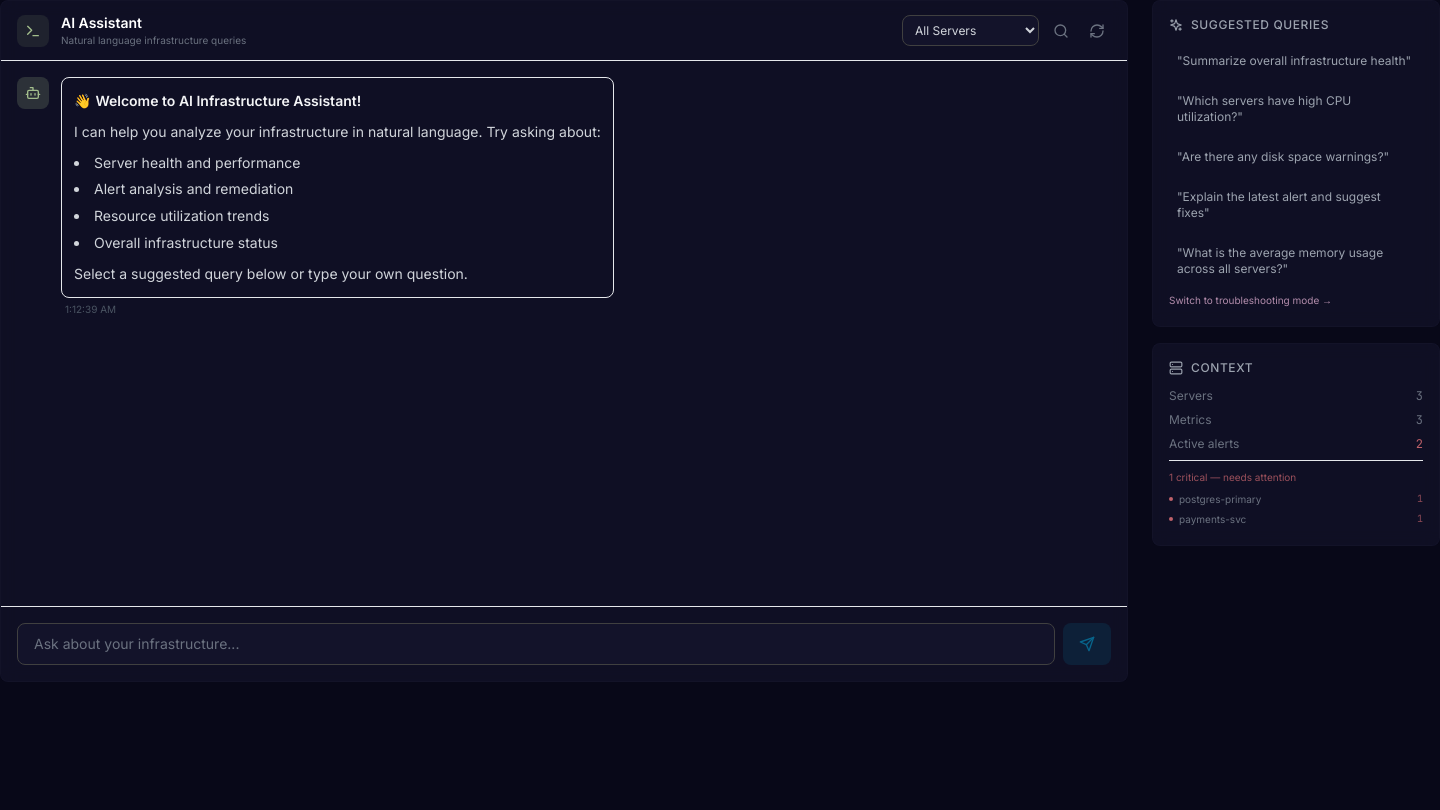
Test: AIChat › shows error message with server summary when API fails
Type "What is wrong?" into the field with placeholder "Ask about your infrastructure...".
click(536, 644); type("What is wrong?")  # box [17,623,1055,665]
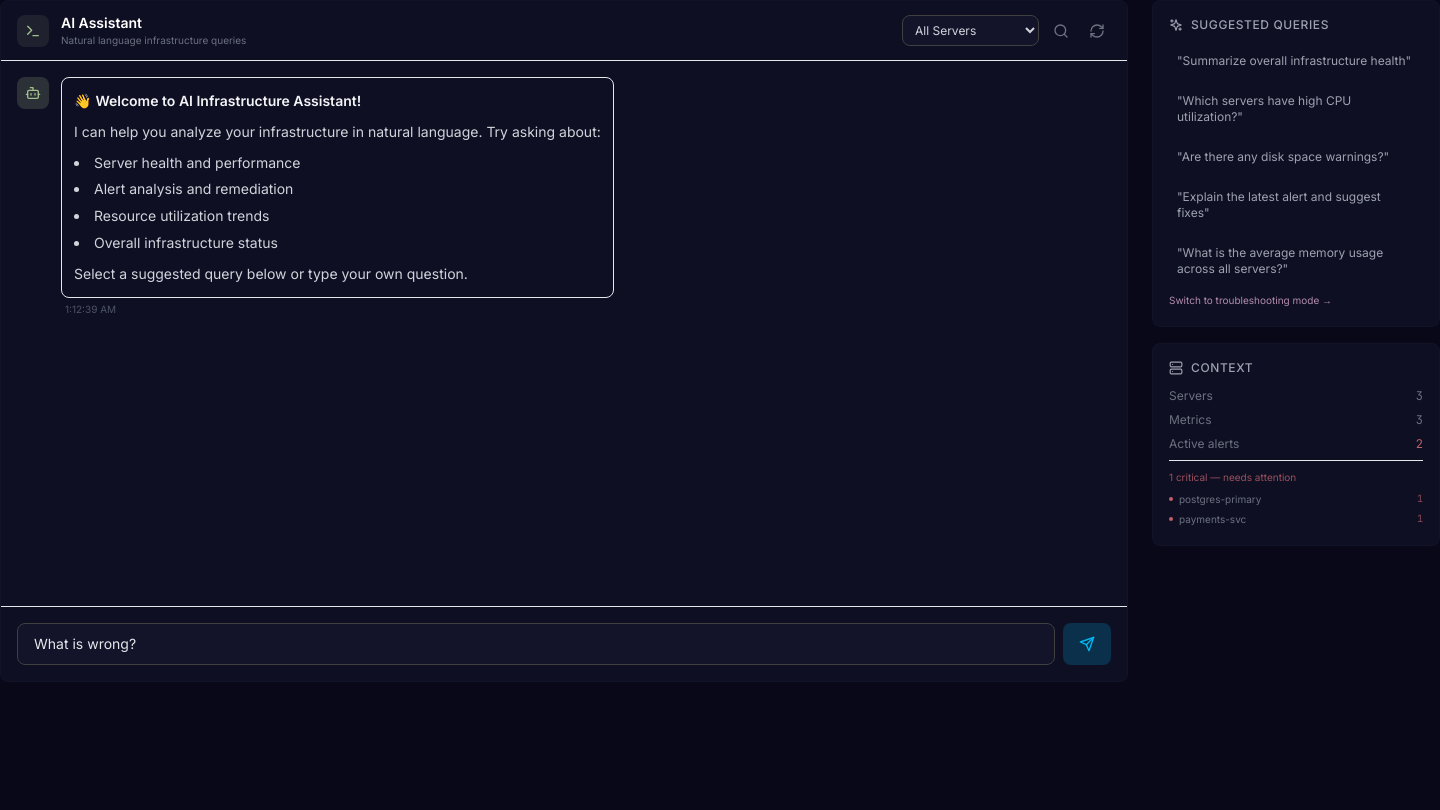
Submit the form, box [17,623,1111,665]
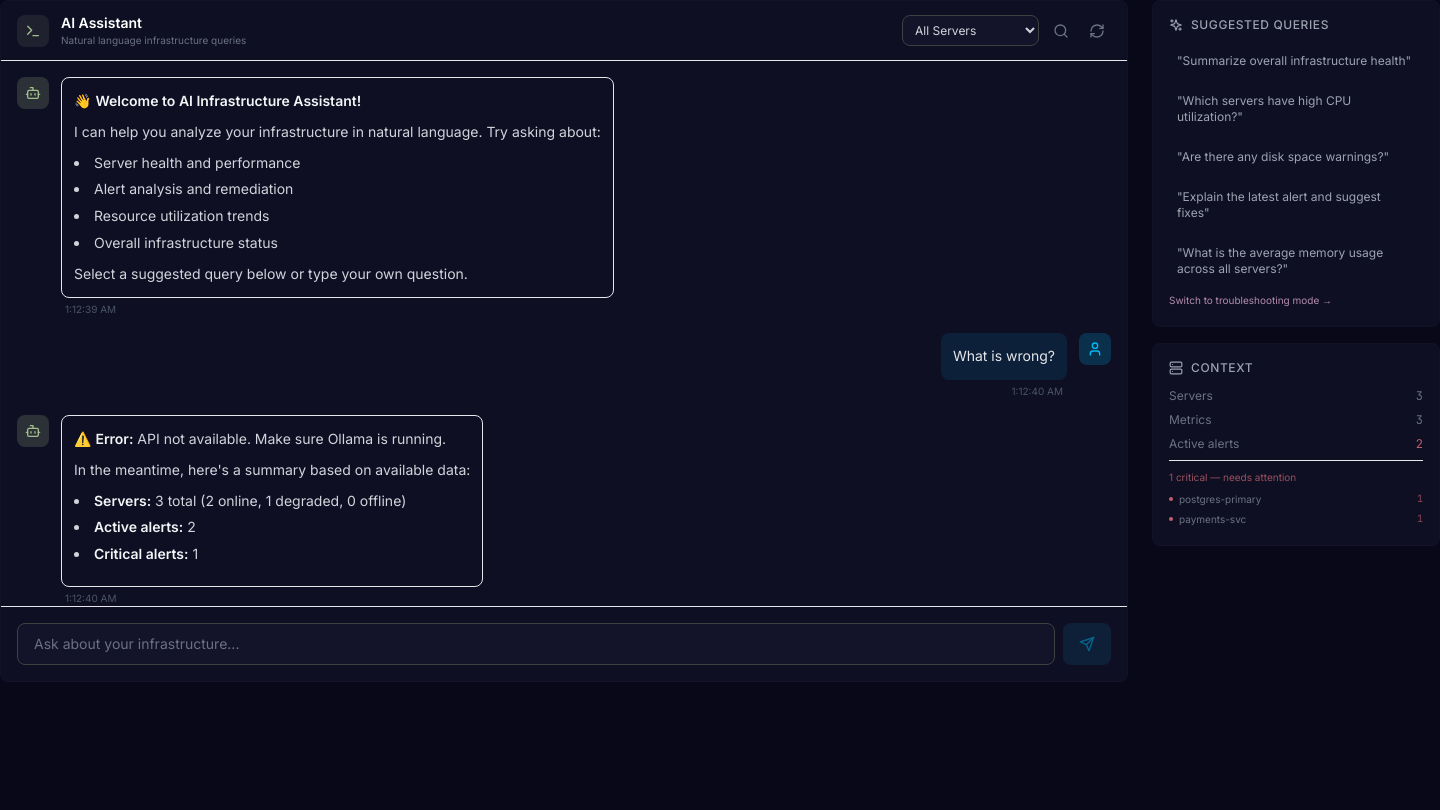
Now the text "Error:" is shown, box [95,430,133,447]
Now the list item "Servers: 3 total (2 online, 1 degraded, 0 offline)" is shown, box [94,492,406,508]
